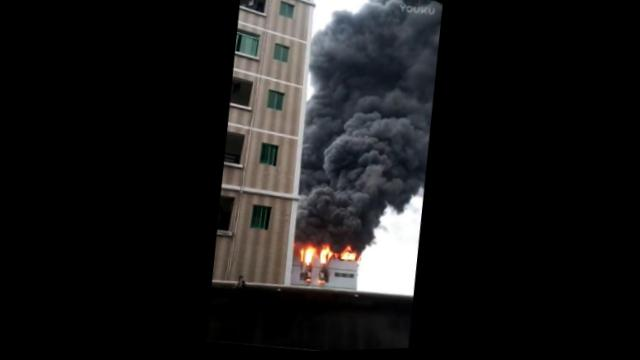fire: (334, 245, 357, 263), (298, 245, 313, 266), (316, 245, 331, 265)
